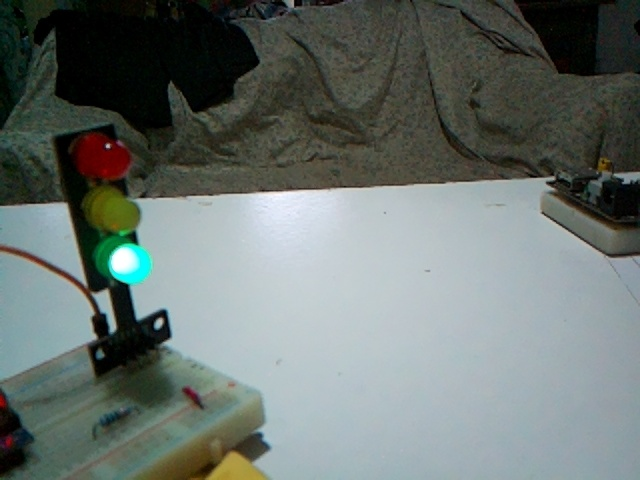traffic_light_green: (51, 130, 107, 291)
